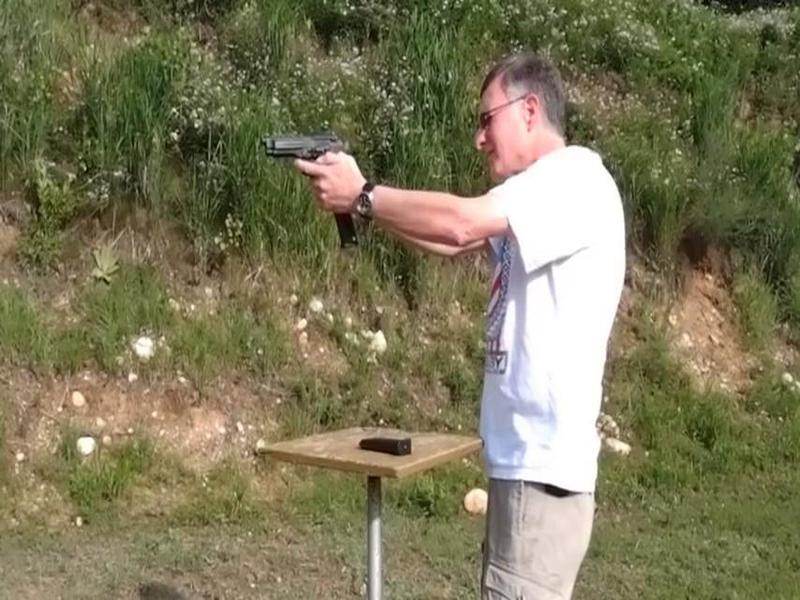Pistola: (252, 122, 367, 214)
